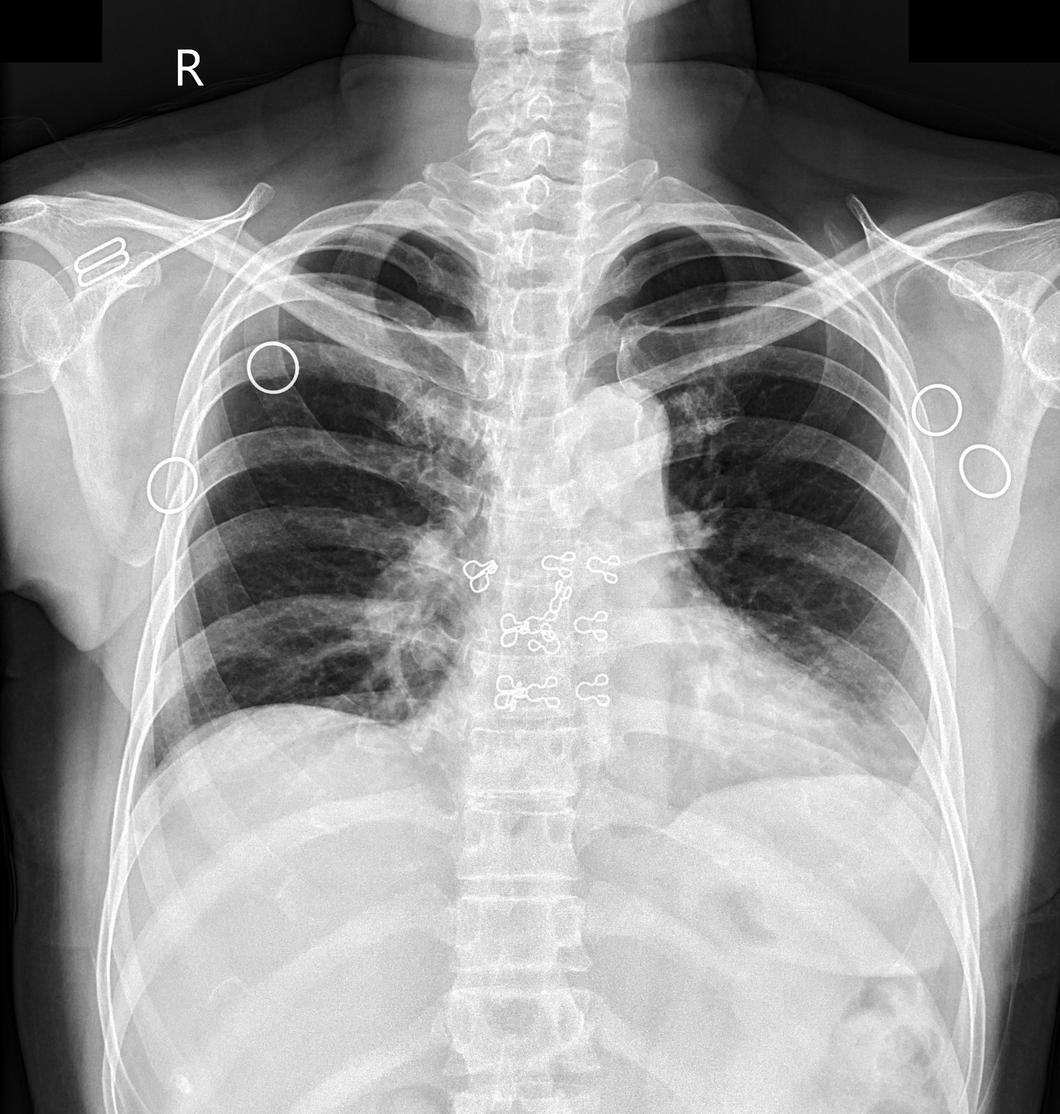Aortic enlargement: (566, 381, 676, 518)
Cardiomegaly: (391, 642, 889, 808)
